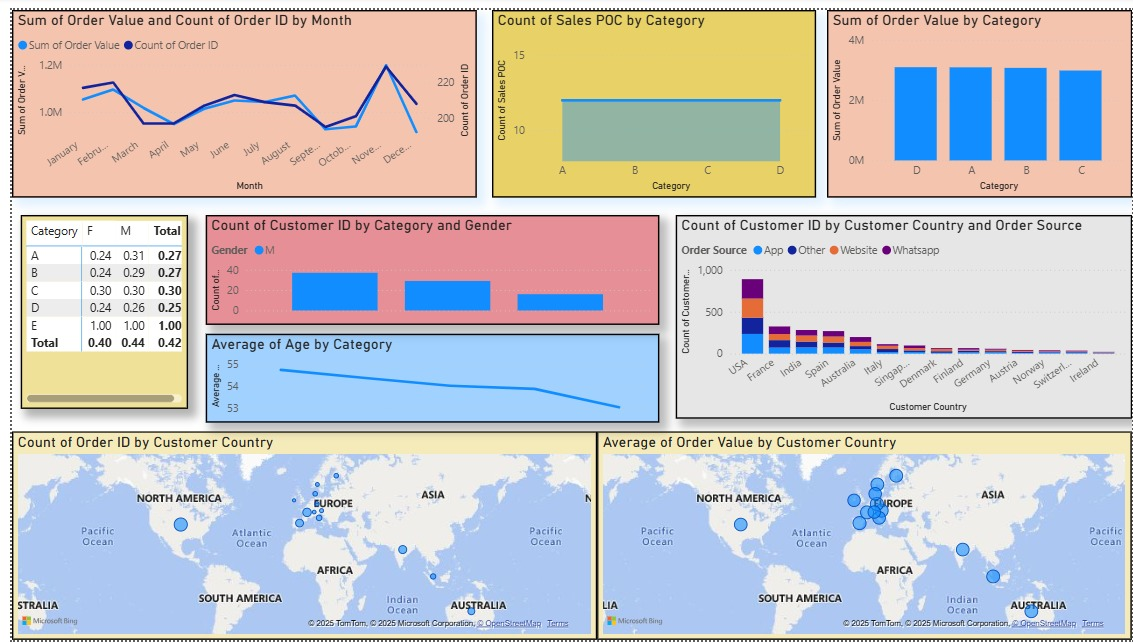

The page's visual inventory and layout, read from the dashboard file:
{"tool":"powerbi","page":{"name":"orders","canvas":[1280,720],"ordinal":1},"visuals":[{"type":"lineChart","fields":{"Category":["Table 1 (Orders).Order Datetime.Variation.Date Hierarchy.Month"],"Y2":["CountNonNull(Table 1 (Orders).Order ID)"],"Y":["Sum(Table 1 (Orders).Order Value)"]},"box":[0,0,531.4,214.3],"z":0},{"type":"areaChart","fields":{"Category":["Customers.Category"],"Y":["Count(Table 1 (Orders).Sales POC)"]},"box":[548.6,0,370,214.3],"z":1000},{"type":"columnChart","fields":{"Category":["Customers.Category"],"Y":["Sum(Table 1 (Orders).Order Value)"]},"box":[931.4,0,348.6,214.3],"z":2000},{"type":"columnChart","fields":{"Category":["Table 1 (Orders).Customer Country"],"Series":["Table 1 (Orders).Order Source"],"Y":["CountNonNull(Table 1 (Orders).Customer ID)"]},"box":[758.6,234.3,521.4,232.9],"z":3000},{"type":"map","fields":{"Category":["Table 1 (Orders).Customer Country"],"Size":["Avg(Table 1 (Orders).Order Value)"]},"box":[668.6,481.4,611.4,238.6],"z":4000},{"type":"map","fields":{"Category":["Table 1 (Orders).Customer Country"],"Size":["CountNonNull(Table 1 (Orders).Order ID)"]},"box":[0,481.4,668.6,238.6],"z":5000},{"type":"lineChart","fields":{"Category":["Customers.Category"],"Y":["Avg(Customers.Age)"]},"box":[221.4,370,518.6,101.4],"z":6000},{"type":"columnChart","fields":{"Category":["Customers.Category"],"Y":["Count(Customers.Customer ID)"],"Series":["Customers.Gender"]},"box":[221.4,234.3,518.6,125.7],"z":7000},{"type":"pivotTable","fields":{"Rows":["Customers.Category"],"Columns":["Customers.Gender"],"Values":["Customers.%_customer_didnot_order"]},"box":[10,234.3,191.4,221.4],"z":8000}]}

Visuals, with their boxes in screenshot pixels (x1, y1, x2, y2), scaled from the page's 1280x720 canvas onto the 1133x643 screenshot:
lineChart - Table 1 (Orders).Order Datetime.Variation.Date Hierarchy.Month x CountNonNull(Table 1 (Orders).Order ID): 0/0/470/191
areaChart - Customers.Category x Count(Table 1 (Orders).Sales POC): 486/0/813/191
columnChart - Customers.Category x Sum(Table 1 (Orders).Order Value): 824/0/1132/191
columnChart - Table 1 (Orders).Customer Country x Table 1 (Orders).Order Source: 671/209/1132/417
map - Table 1 (Orders).Customer Country x Avg(Table 1 (Orders).Order Value): 592/430/1132/642
map - Table 1 (Orders).Customer Country x CountNonNull(Table 1 (Orders).Order ID): 0/430/592/642
lineChart - Customers.Category x Avg(Customers.Age): 196/330/655/421
columnChart - Customers.Category x Count(Customers.Customer ID): 196/209/655/322
pivotTable - Customers.Category x Customers.Gender: 9/209/178/407
